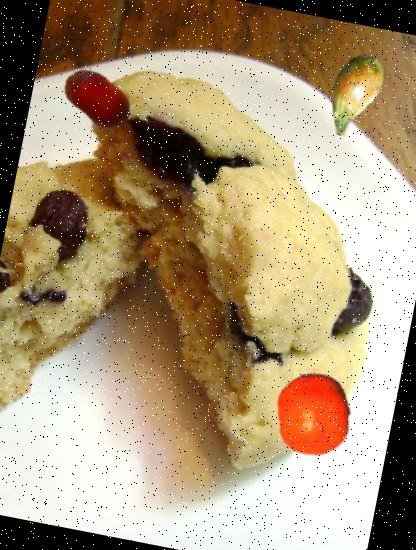Cactus: (300, 44, 402, 146)
Clementine: (266, 366, 362, 463)
Nectarine: (54, 56, 138, 140)
